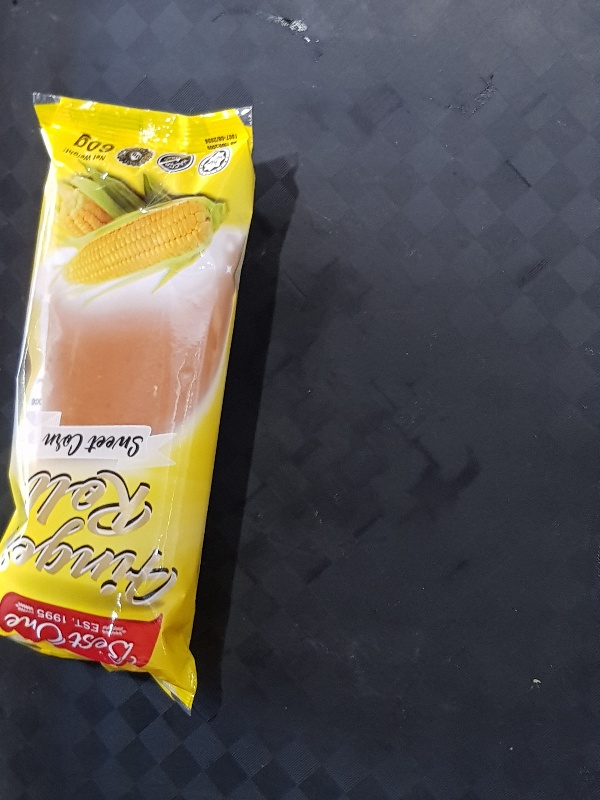Tinges Roll Sweet Corn: (1, 91, 256, 716)
